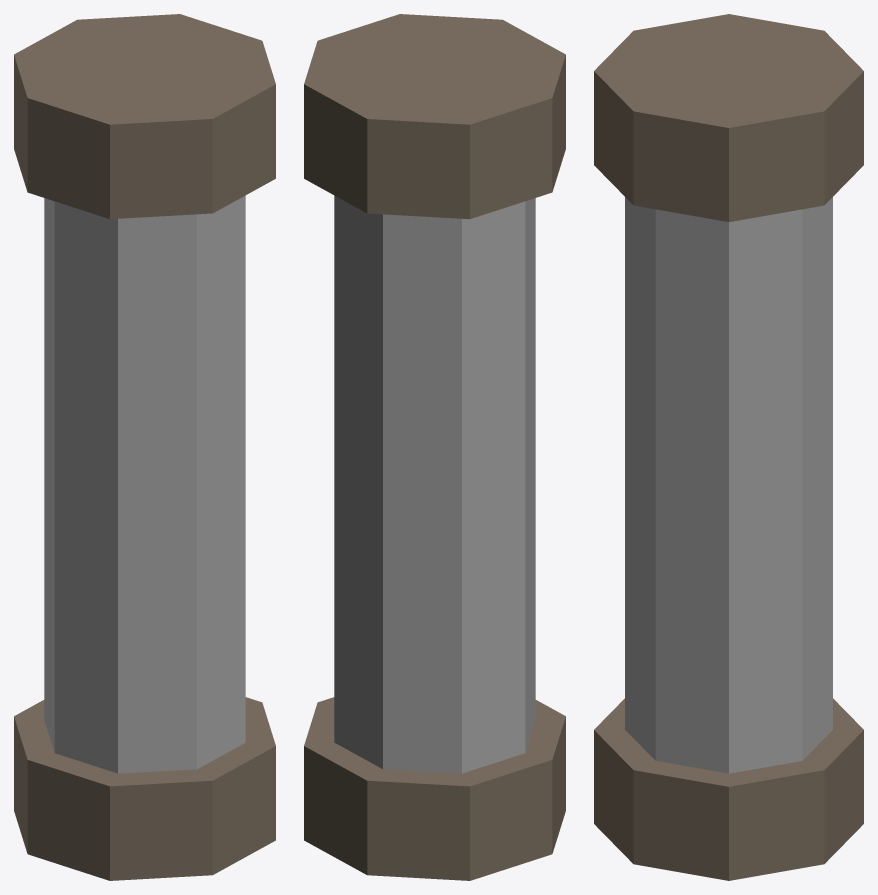
File: steampunk_pipe_thick.fbx
3 views of the same model, side by side, from view 1: azimuth 30°, elevation 25°; view 2: azimuth 150°, elevation 25°; view 3: azimuth 270°, elevation 25° (orthographic).
Visible parts, largest first — view 1: Cylinder.019; view 2: Cylinder.019; view 3: Cylinder.019.
Part boxes in pixels (left/top/right/bottom): Cylinder.019: left=14, top=14, right=275, bottom=880; Cylinder.019: left=304, top=14, right=565, bottom=880; Cylinder.019: left=594, top=14, right=863, bottom=880.
Bounding box in the file's own units: 0.65 × 2 × 0.65.
